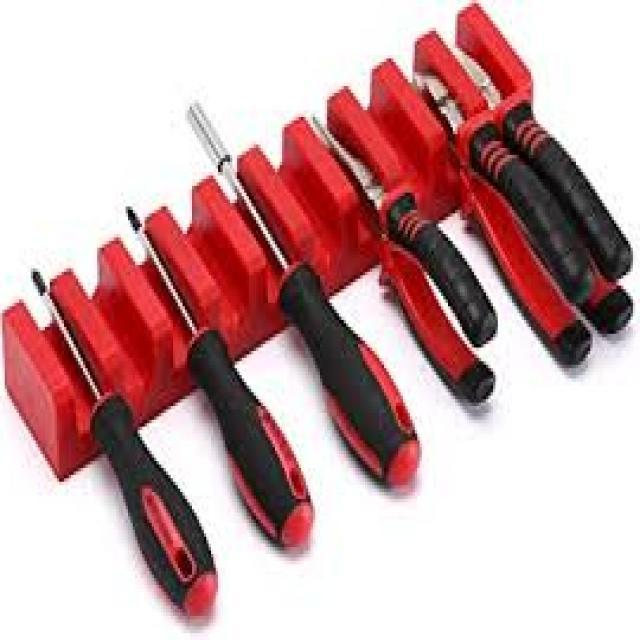screwdriver: (28, 260, 223, 628), (121, 198, 318, 560)
